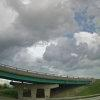Bridge: (4, 56, 80, 93)
